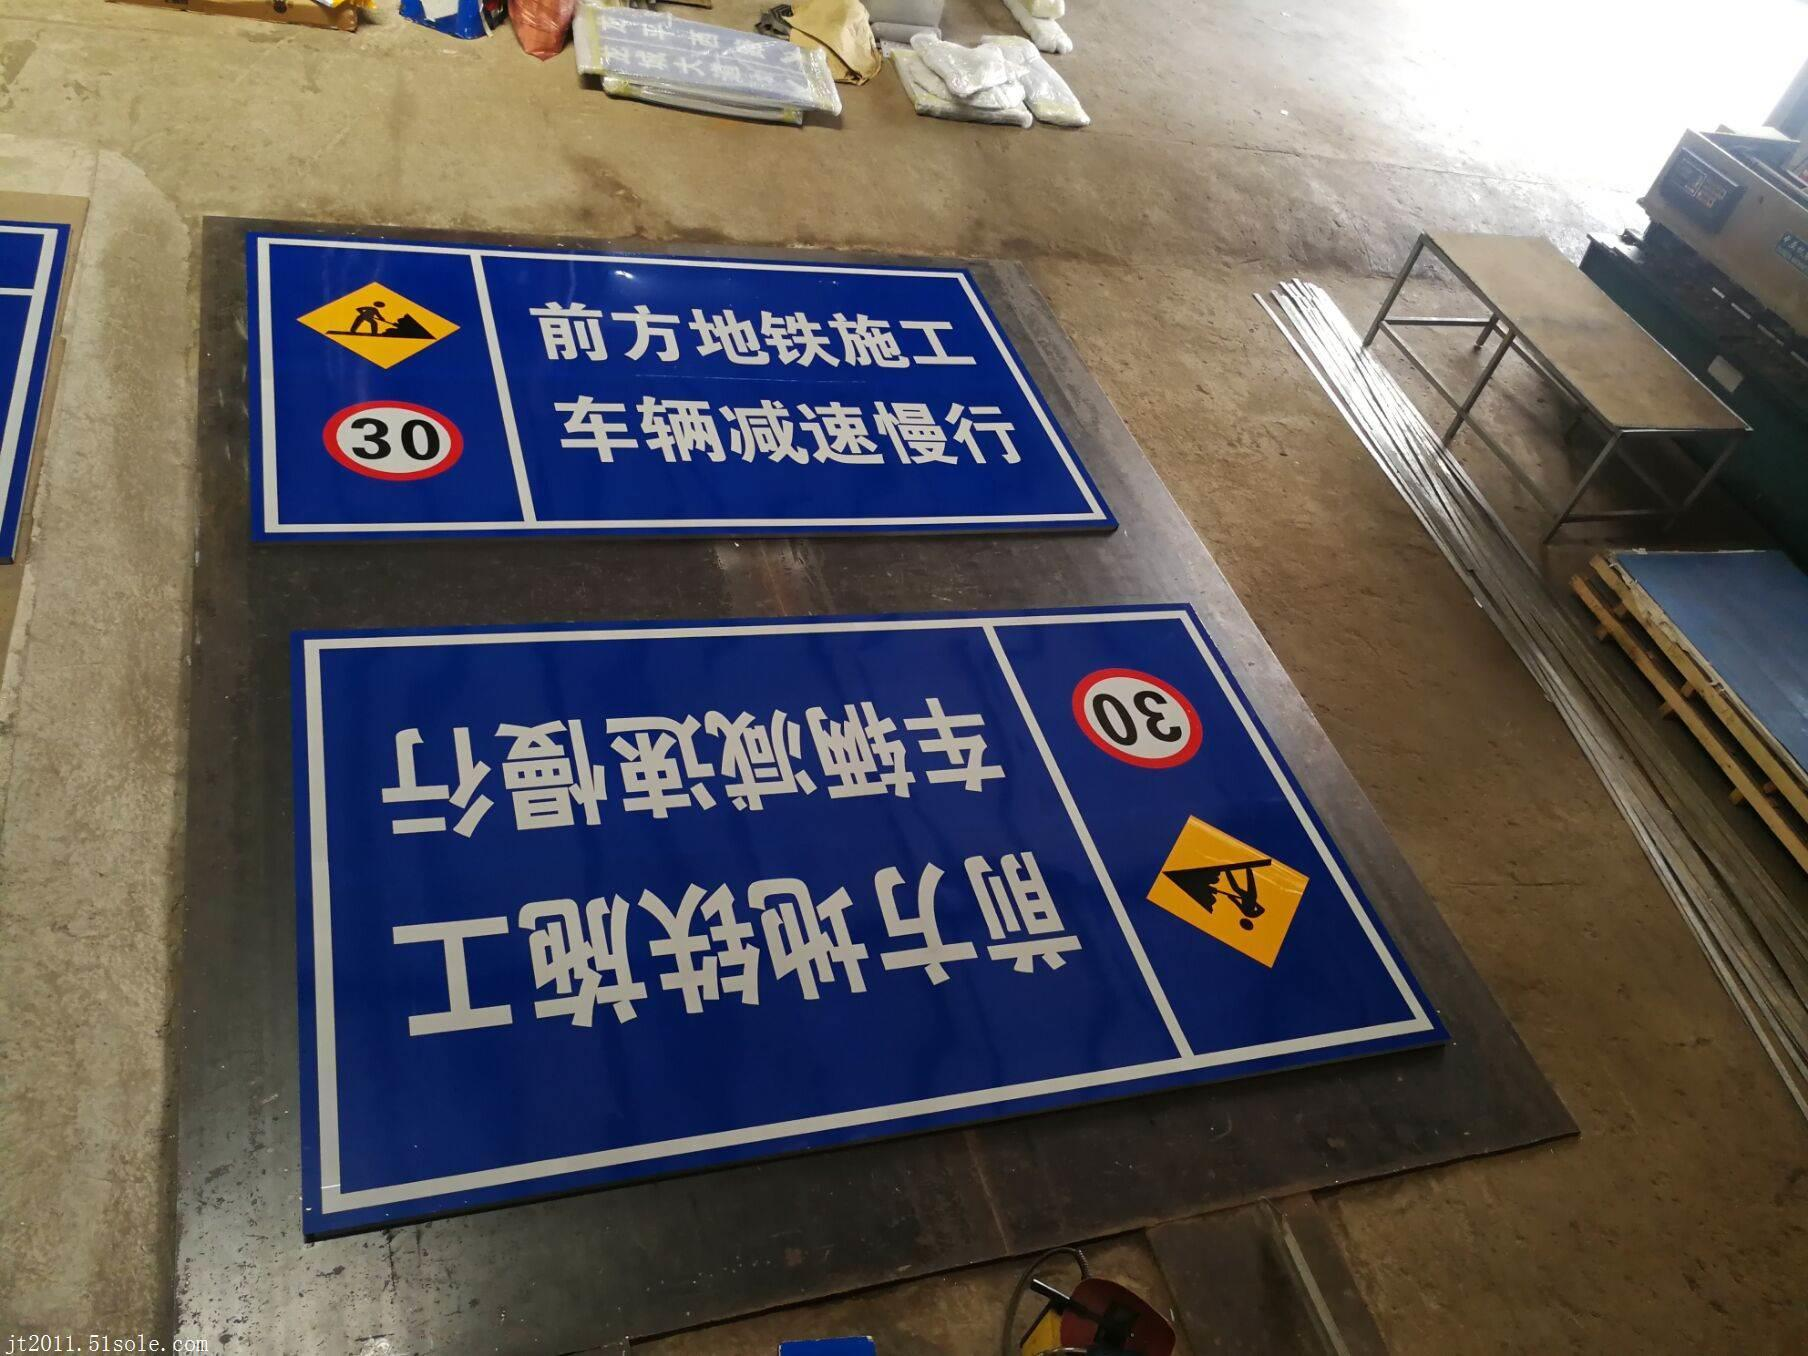sign: (285, 631, 1372, 1081), (261, 242, 1075, 537)
